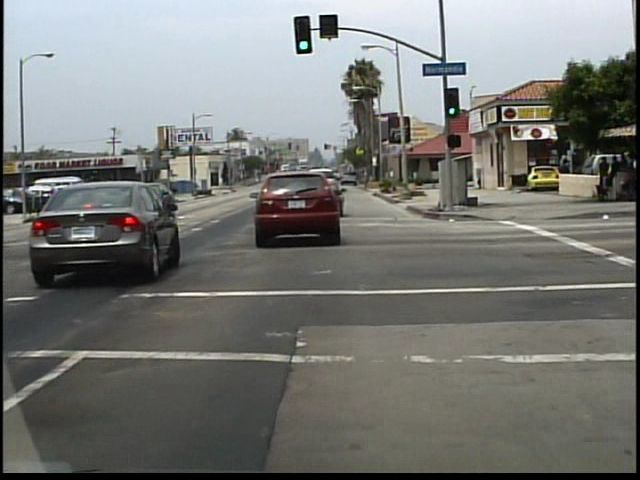person: (555, 157, 572, 197)
